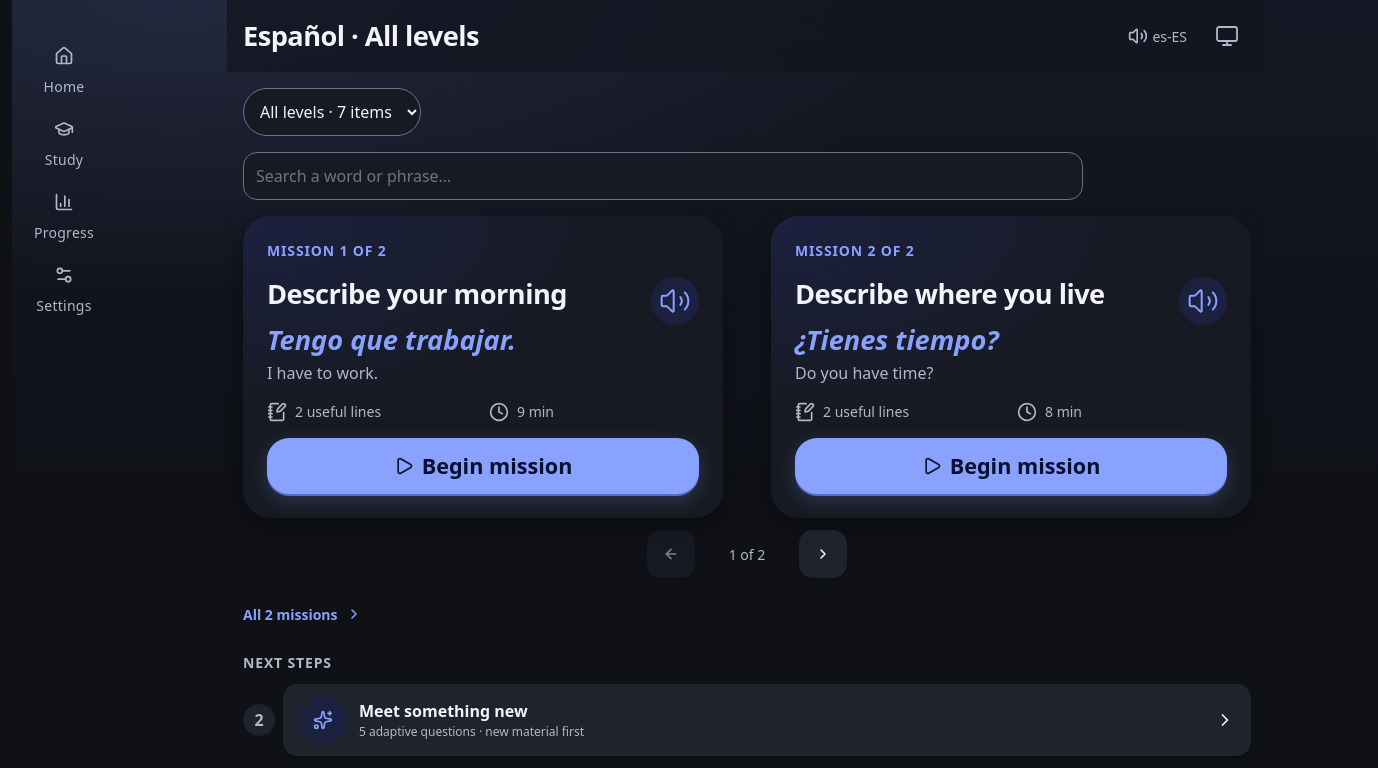
Test: HomeScreen › starts a bounded new-material session from the daily path
Click the button "Meet something new 5 adaptive questions · new material first" at (323, 720), box [283,684,1251,756]
(page scrolled)
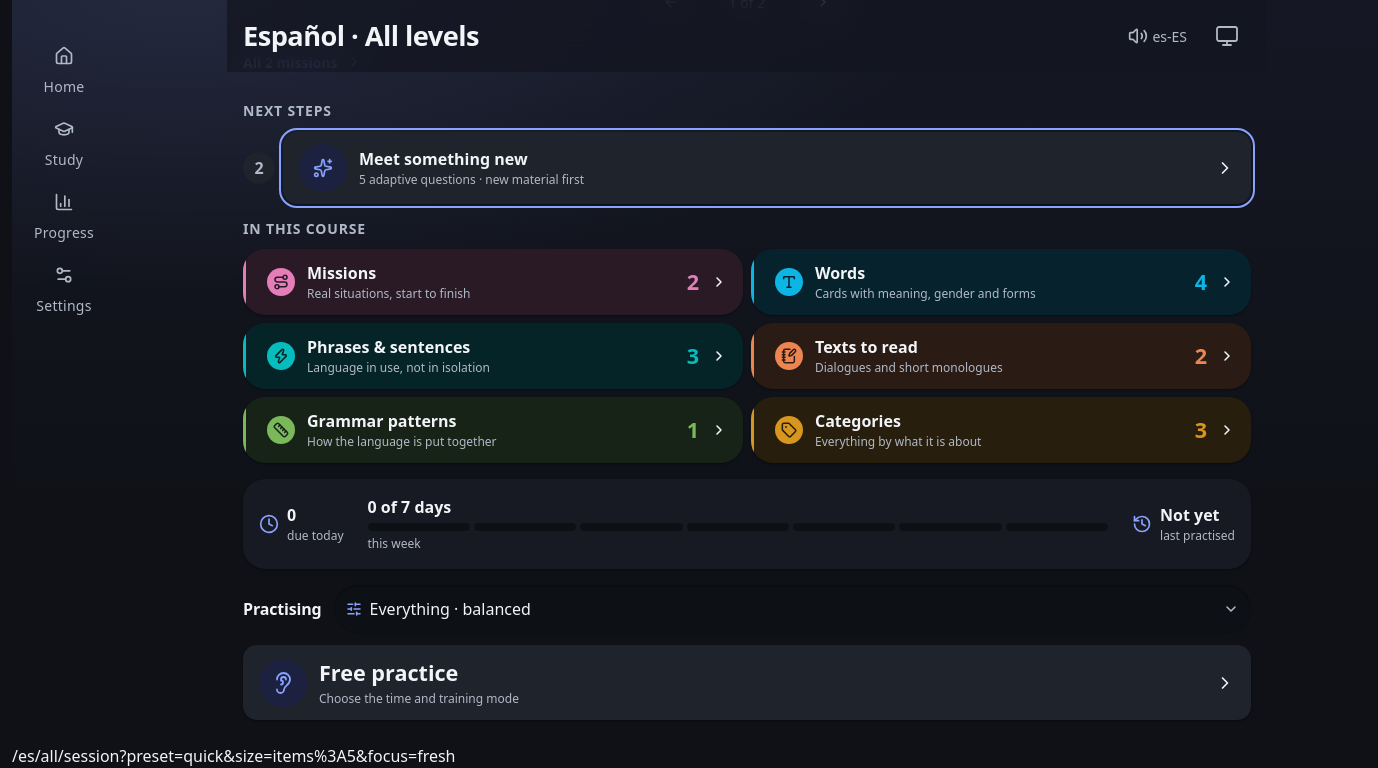
Result: the text with test id "where" shows "preset=quick" at [12,745,456,767]
Result: the text with test id "where" shows "size=items%3A5" at [12,745,456,767]
Result: the text with test id "where" shows "focus=fresh" at [12,745,456,767]
